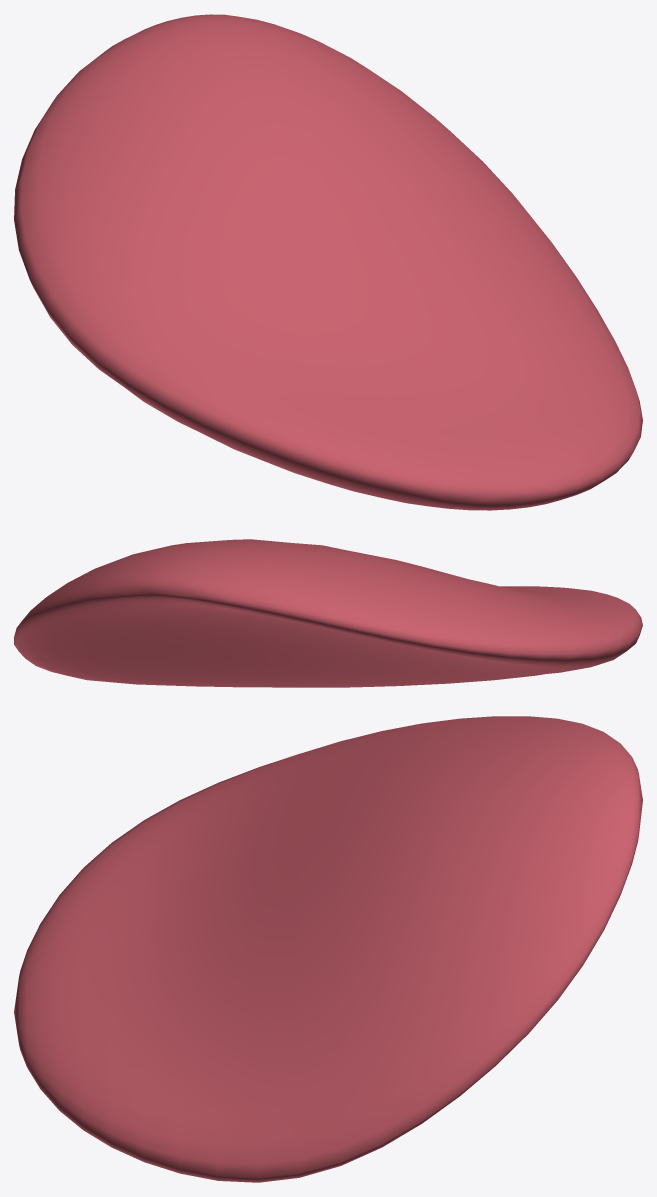
3 renders of one model, top to bottom at view 1: azimuth 30°, elevation 25°; view 2: azimuth 150°, elevation 25°; view 3: azimuth 270°, elevation 25°, orthographic. The views are drawn at different scales.
Parts seen in each view (by area): view 1: 右侧肱三头肌腱下囊; view 2: 右侧肱三头肌腱下囊; view 3: 右侧肱三头肌腱下囊.
Boxes of the visible parts, x1,y1,x2,y2 form: 右侧肱三头肌腱下囊: (14, 14, 642, 510); 右侧肱三头肌腱下囊: (14, 539, 642, 687); 右侧肱三头肌腱下囊: (14, 716, 642, 1182).
Bounding box in the file's own units: 0.0444 × 0.024 × 0.0445.
